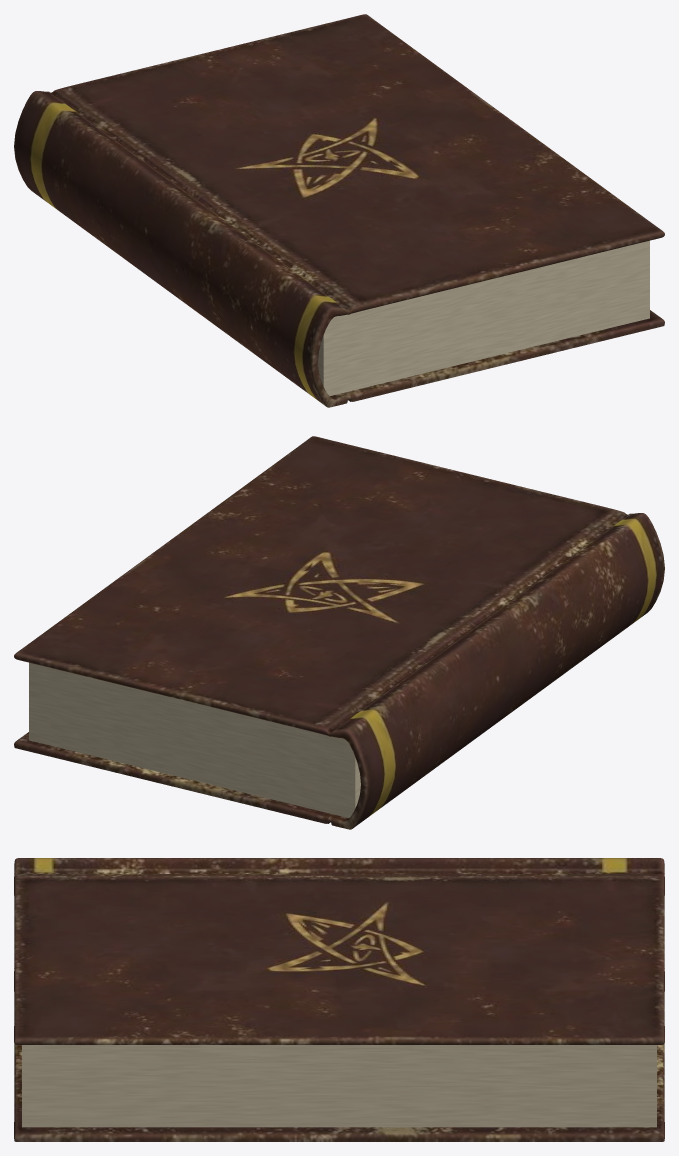
The model's file is alchemical-book-mobile.glb.
3 views of the same model, one above another, from view 1: azimuth 30°, elevation 25°; view 2: azimuth 150°, elevation 25°; view 3: azimuth 270°, elevation 25° (orthographic). The views are drawn at different scales.
Parts seen in each view (by area): view 1: Closed_Book_Cover_Spine, Closed_Book_Page_Blocks; view 2: Closed_Book_Cover_Spine, Closed_Book_Page_Blocks; view 3: Closed_Book_Cover_Spine, Closed_Book_Page_Blocks.
Part boxes in pixels (left/top/right/bottom): Closed_Book_Cover_Spine: left=14, top=14, right=664, bottom=407; Closed_Book_Page_Blocks: left=318, top=240, right=649, bottom=395; Closed_Book_Cover_Spine: left=14, top=436, right=664, bottom=829; Closed_Book_Page_Blocks: left=29, top=662, right=360, bottom=817; Closed_Book_Cover_Spine: left=14, top=858, right=664, bottom=1141; Closed_Book_Page_Blocks: left=22, top=1045, right=656, bottom=1127.
Size of the model in its own units: 0.1773 by 0.0471 by 0.2595.
Materials: 3 (3 with a texture image).
